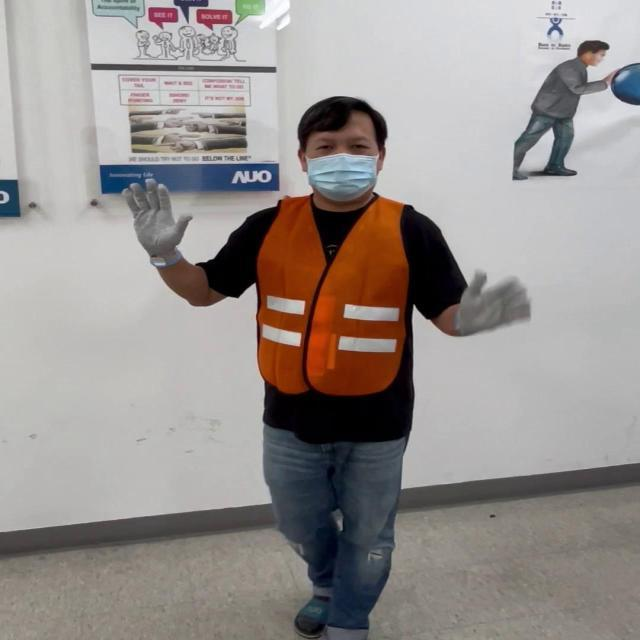gloved_hand: (126, 178, 197, 266), (449, 270, 532, 338)
